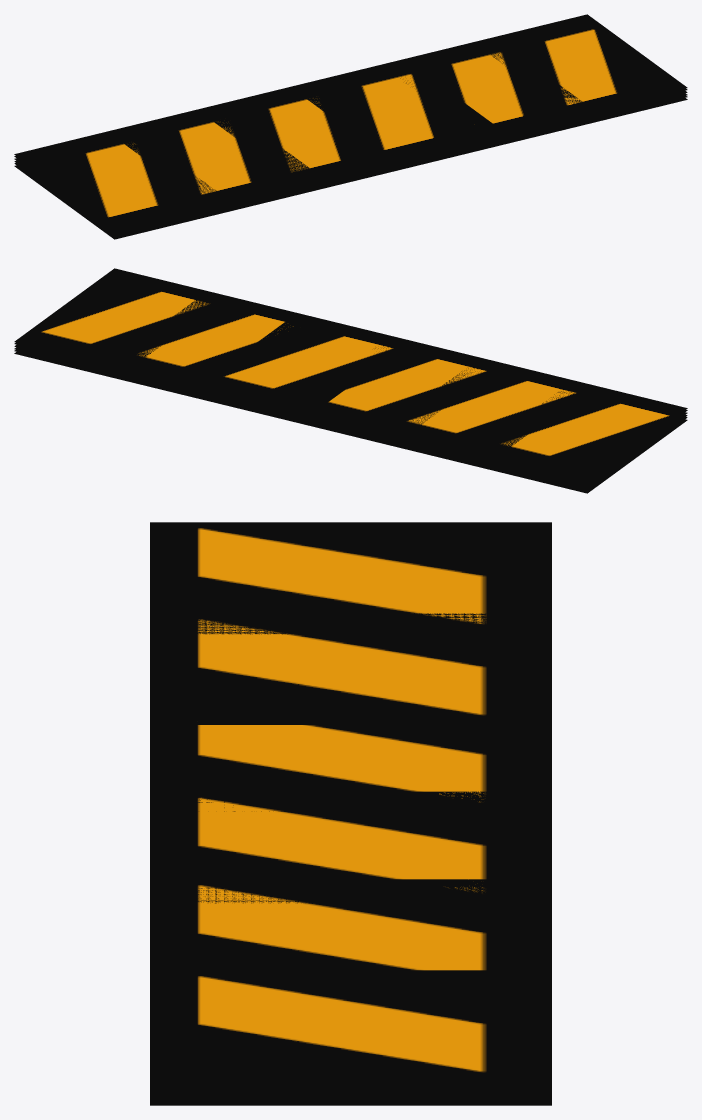
The model's file is LightMesh_WarningLine.fbx.
3 views of the same model, one above another, from view 1: azimuth 30°, elevation 25°; view 2: azimuth 150°, elevation 25°; view 3: azimuth 270°, elevation 25° (orthographic). The views are drawn at different scales.
Visible parts, largest first — view 1: U_LightMesh_WarningLine; view 2: U_LightMesh_WarningLine; view 3: U_LightMesh_WarningLine.
Part boxes in pixels (x1=…): U_LightMesh_WarningLine: x1=14, y1=14, x2=687, y2=239; U_LightMesh_WarningLine: x1=14, y1=268, x2=687, y2=493; U_LightMesh_WarningLine: x1=150, y1=522, x2=551, y2=1105.
Size of the model in its own units: 1719 by 33.68 by 522.
Materials: 2 (1 with a texture image).
